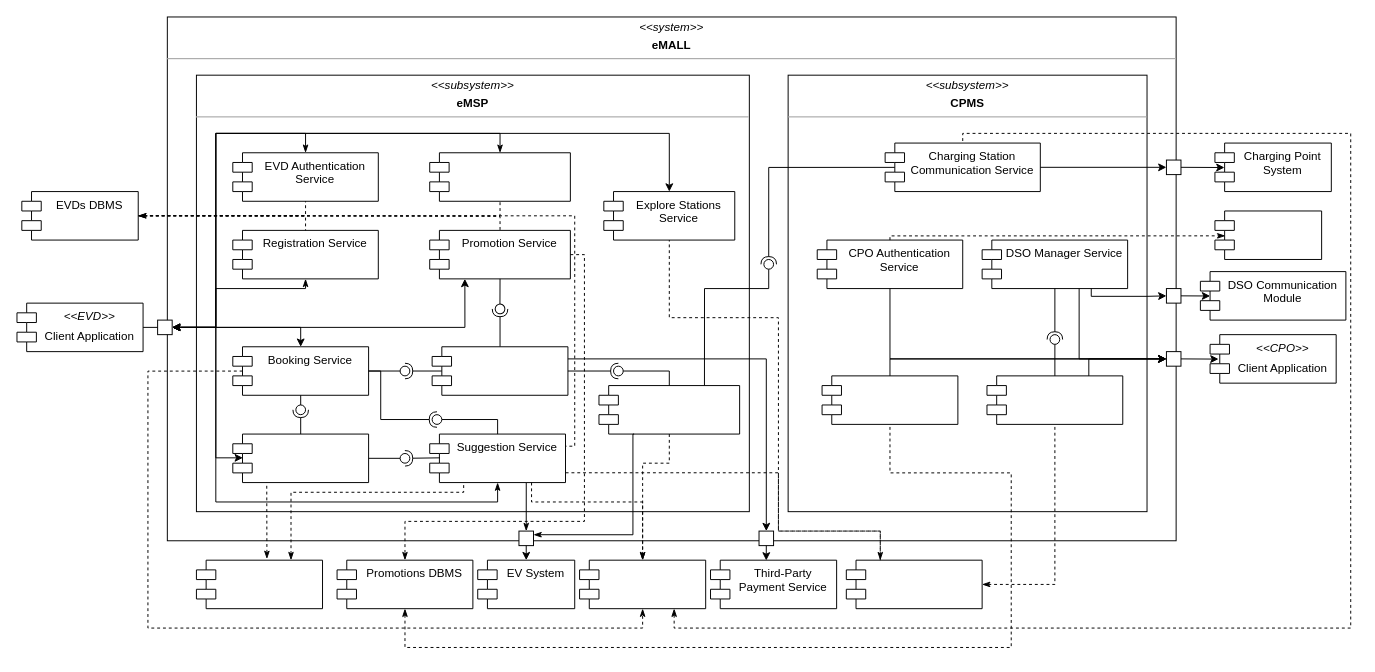
Some shapes in this 1375 by 672 pixel diagram are drawn without their labels. The centre of each missing label's shape, as x and y in pixels:
"Calendar Service" belongs at pixel 300 458.
"Calendars DBMS" belongs at pixel 259 584.
"Charging Station Manager Service" belongs at pixel 1054 399.
"Charging Stations DBMS" belongs at pixel 913 584.
"CPOs DBMS" belongs at pixel 1268 234.
"EVD Profile Manager Service" belongs at pixel 499 176.
"Manage Charging Session Service" belongs at pixel 669 409.
"Payment Service" belongs at pixel 499 370.
"Promotion Manager Service" belongs at pixel 889 399.
"Sessions DBMS" belongs at pixel 642 584.
